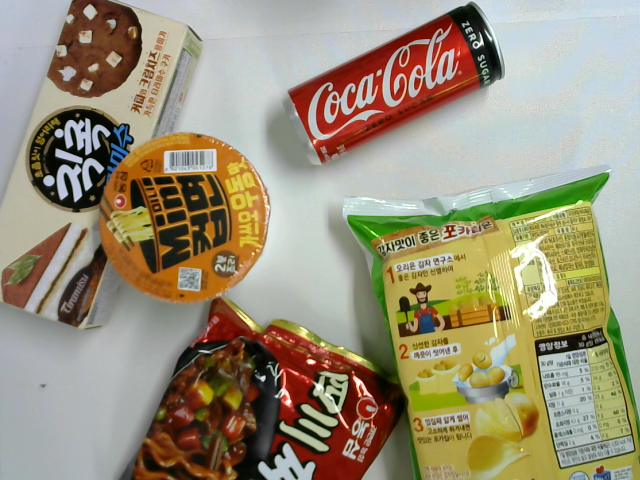Chicchok_Tiramisu: (1, 1, 204, 335)
Coca_Cola_Zero_Can_250ml: (282, 1, 507, 168)
Pocachip_Onion: (341, 163, 640, 480)
Sichuan_Chapaghetti: (118, 294, 408, 480)
Udongmini: (95, 128, 272, 307)
